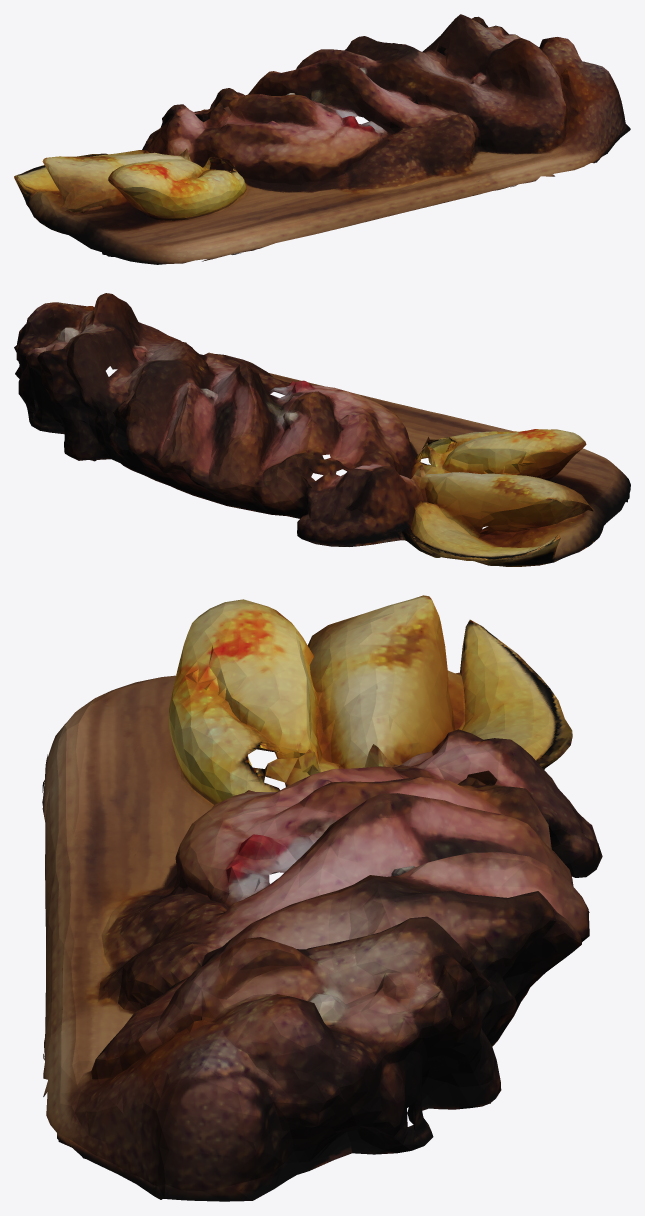
Rendered from bife.glb.
The picture shows the model from 3 angles, top to bottom: view 1: azimuth 30°, elevation 25°; view 2: azimuth 150°, elevation 25°; view 3: azimuth 270°, elevation 25°; orthographic projection. The views are drawn at different scales.
Visible parts, largest first — view 1: world; view 2: world; view 3: world.
Boxes of the visible parts, x1,y1,x2,y2 form: world: (14,14,630,264); world: (14,293,630,566); world: (42,595,602,1201).
Size of the model in its own units: 1 by 0.1662 by 0.449.
1 material, 1 textured.
